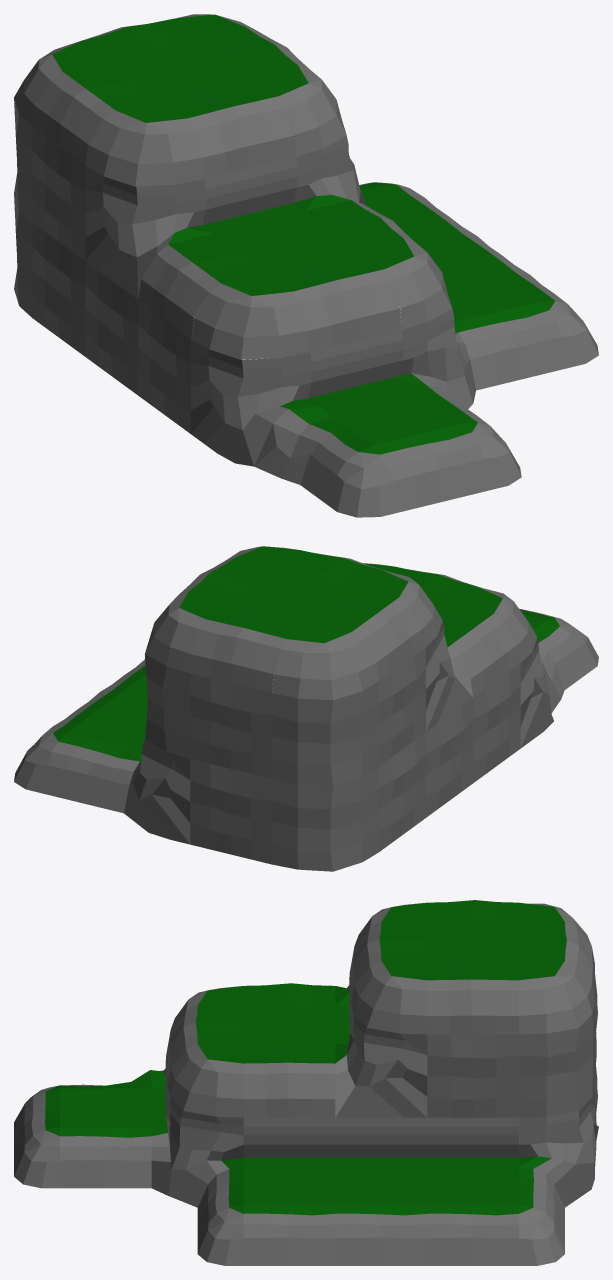
Rendered from cliff2.glb.
3 views of the same model, one above another, from view 1: azimuth 30°, elevation 25°; view 2: azimuth 150°, elevation 25°; view 3: azimuth 270°, elevation 25° (orthographic). The views are drawn at different scales.
Parts seen in each view (by area): view 1: Plane.042, Plane.043, Plane.019, Plane.031, Plane.041, Plane.047, Plane.037, Plane.011, Plane.040, Plane.045, Plane.039, Plane.027 (+29 smaller); view 2: Plane.056, Plane.057, Plane.052, Plane.051, Plane.035, Plane.046, Plane.026, Plane.045, Plane.053, Plane.040, Plane.044, Plane.048 (+20 smaller); view 3: Plane.017, Plane.029, Plane.009, Plane.028, Plane.030, Plane.055, Plane.012, Plane.013, Plane.015, Plane.053, Plane.024, Plane.032 (+28 smaller).
Boxes of the visible parts, left/top/right/bottom form: Plane.042: left=191, top=339, right=318, bottom=466; Plane.043: left=85, top=165, right=213, bottom=299; Plane.019: left=267, top=250, right=401, bottom=351; Plane.031: left=161, top=77, right=296, bottom=178; Plane.041: left=191, top=272, right=310, bottom=359; Plane.047: left=85, top=99, right=204, bottom=186; Plane.037: left=372, top=423, right=490, bottom=512; Plane.011: left=454, top=301, right=567, bottom=390; Plane.040: left=138, top=233, right=266, bottom=337; Plane.045: left=32, top=60, right=160, bottom=164; Plane.039: left=254, top=406, right=371, bottom=503; Plane.027: left=202, top=156, right=304, bottom=233; Plane.056: left=272, top=681, right=378, bottom=785; Plane.057: left=272, top=767, right=378, bottom=871; Plane.052: left=190, top=759, right=271, bottom=864; Plane.051: left=190, top=673, right=271, bottom=778; Plane.035: left=190, top=602, right=310, bottom=693; Plane.046: left=272, top=622, right=378, bottom=700; Plane.026: left=42, top=733, right=141, bottom=813; Plane.045: left=311, top=587, right=425, bottom=680; Plane.053: left=124, top=739, right=190, bottom=844; Plane.040: left=439, top=604, right=520, bottom=697; Plane.044: left=473, top=663, right=520, bottom=782; Plane.048: left=378, top=647, right=425, bottom=766; Plane.017: left=335, top=1003, right=427, bottom=1117; Plane.029: left=427, top=1034, right=518, bottom=1117; Plane.009: left=243, top=1044, right=335, bottom=1117; Plane.028: left=151, top=1086, right=243, bottom=1207; Plane.030: left=427, top=961, right=518, bottom=1034; Plane.055: left=519, top=1003, right=594, bottom=1117; Plane.012: left=60, top=1127, right=151, bottom=1188; Plane.013: left=243, top=1205, right=335, bottom=1265; Plane.015: left=335, top=1205, right=427, bottom=1265; Plane.053: left=519, top=1087, right=598, bottom=1207; Plane.024: left=427, top=1205, right=518, bottom=1265; Plane.032: left=351, top=961, right=427, bottom=1034.
Size of the model in its own units: 4.37 by 2.52 by 6.37.
